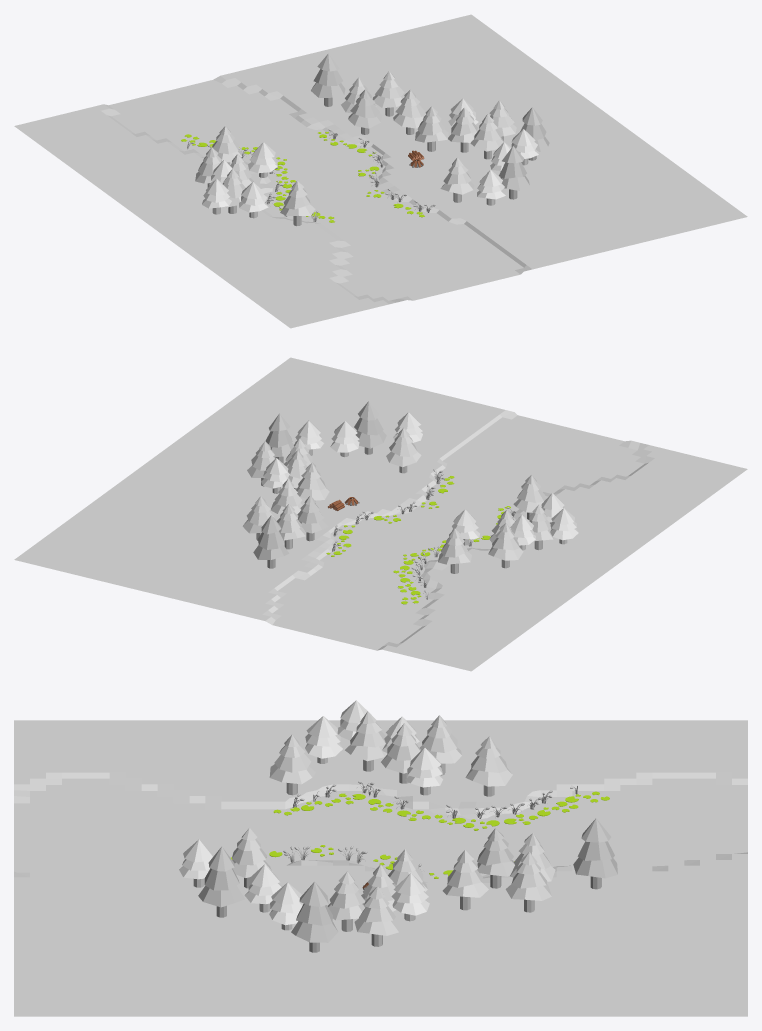
Rendered from Map (4).fbx.
3 renders of one model, top to bottom at view 1: azimuth 30°, elevation 25°; view 2: azimuth 150°, elevation 25°; view 3: azimuth 270°, elevation 25°, orthographic. The views are drawn at different scales.
Parts seen in each view (by area): view 1: Plane, Plane.048, Plane.006, Plane.072, Plane.040, Plane.065, Plane.030, Plane.039, Plane.055, Plane.041, Plane.001, Plane.043 (+9 smaller); view 2: Plane, Plane.048, Plane.006, Plane.039, Plane.020, Plane.045, Plane.043, Plane.040, Plane.072, Plane.030, Plane.038, Plane.021 (+9 smaller); view 3: Plane, Plane.043, Plane.048, Plane.006, Plane.045, Plane.030, Plane.047, Plane.055, Plane.065, Plane.072, Plane.025, Plane.041 (+13 smaller).
Boxes of the visible parts, left/top/right/bottom form: Plane: left=14, top=14, right=747, bottom=328; Plane.048: left=311, top=53, right=345, bottom=106; Plane.006: left=499, top=146, right=529, bottom=199; Plane.072: left=348, top=89, right=382, bottom=134; Plane.040: left=415, top=106, right=448, bottom=151; Plane.065: left=393, top=89, right=425, bottom=134; Plane.030: left=280, top=180, right=315, bottom=226; Plane.039: left=440, top=157, right=474, bottom=202; Plane.055: left=372, top=71, right=404, bottom=116; Plane.041: left=470, top=114, right=503, bottom=159; Plane.001: left=448, top=107, right=477, bottom=152; Plane.043: left=520, top=107, right=549, bottom=160; Plane: left=14, top=357, right=747, bottom=671; Plane.048: left=253, top=515, right=289, bottom=568; Plane.006: left=354, top=401, right=386, bottom=454; Plane.039: left=386, top=428, right=421, bottom=473; Plane.020: left=488, top=523, right=523, bottom=568; Plane.045: left=438, top=528, right=471, bottom=573; Plane.043: left=265, top=413, right=294, bottom=463; Plane.040: left=296, top=463, right=329, bottom=503; Plane.072: left=297, top=495, right=328, bottom=541; Plane.030: left=513, top=475, right=546, bottom=520; Plane.038: left=277, top=504, right=305, bottom=549; Plane.021: left=550, top=508, right=578, bottom=544; Plane: left=14, top=720, right=747, bottom=1016; Plane.043: left=291, top=881, right=338, bottom=952; Plane.048: left=573, top=818, right=617, bottom=889; Plane.006: left=198, top=846, right=245, bottom=917; Plane.045: left=465, top=736, right=512, bottom=796; Plane.030: left=269, top=734, right=315, bottom=795; Plane.047: left=354, top=886, right=398, bottom=946; Plane.055: left=505, top=852, right=551, bottom=912; Plane.065: left=442, top=850, right=488, bottom=910; Plane.072: left=477, top=828, right=514, bottom=888; Plane.025: left=345, top=711, right=387, bottom=771; Plane.041: left=328, top=871, right=365, bottom=931.
Bounding box in the file's own units: 13263 × 1511 × 13888.
